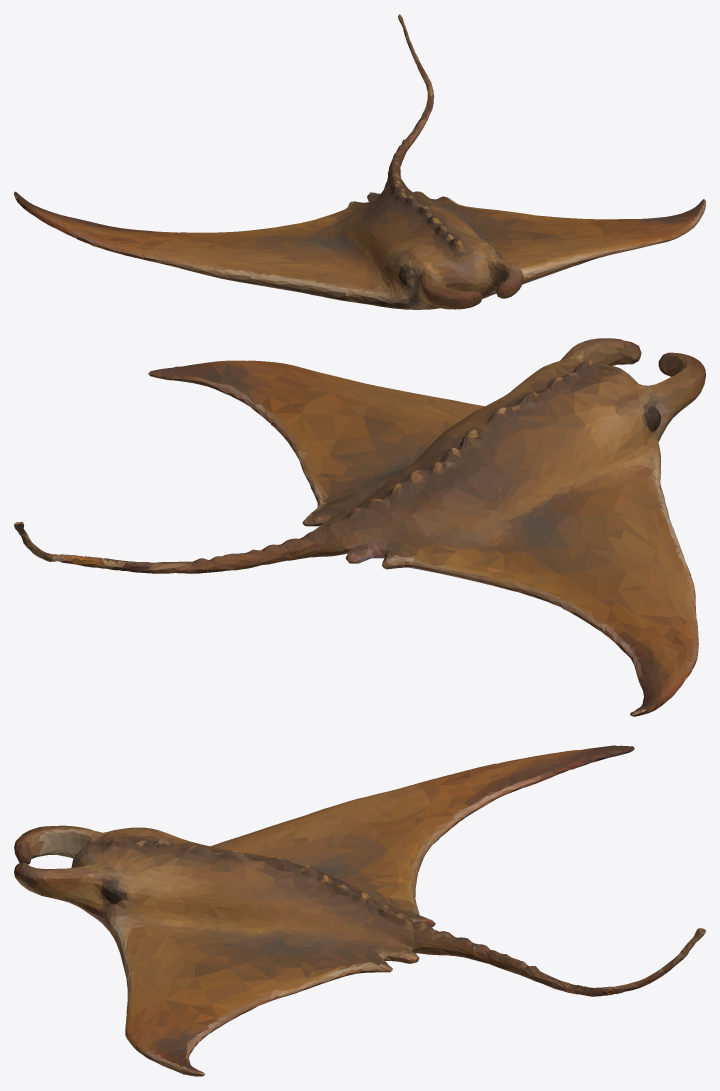
Rendered from dune-matriarch.glb.
3 views of the same model, one above another, from view 1: azimuth 30°, elevation 25°; view 2: azimuth 150°, elevation 25°; view 3: azimuth 270°, elevation 25° (orthographic). The views are drawn at different scales.
Parts seen in each view (by area): view 1: dune-matriarch; view 2: dune-matriarch; view 3: dune-matriarch.
Part boxes in pixels (x1=…): dune-matriarch: x1=14, y1=14, x2=705, y2=309; dune-matriarch: x1=14, y1=338, x2=705, y2=716; dune-matriarch: x1=14, y1=745, x2=705, y2=1076.
Size of the model in its own units: 5.3 by 0.7802 by 4.84.
